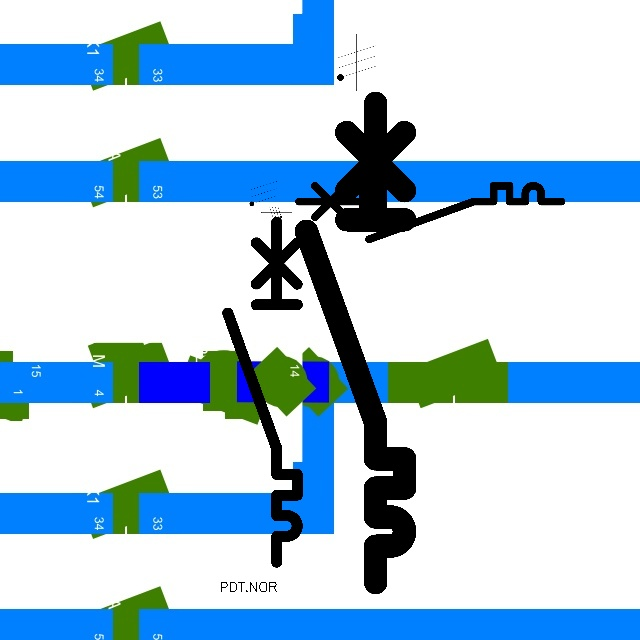interruptor_termomagnetico: (294, 91, 417, 595), (219, 213, 306, 571), (292, 179, 567, 246)
